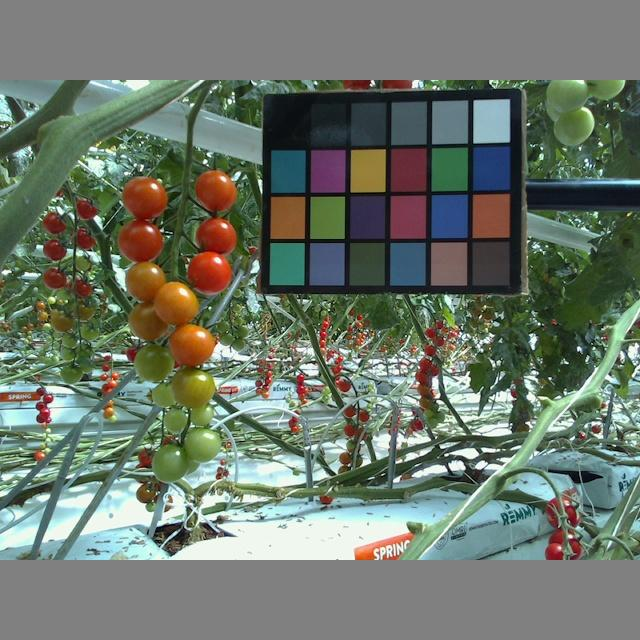green: (552, 105, 596, 147), (545, 81, 594, 116), (133, 343, 174, 383), (153, 444, 191, 484), (183, 426, 221, 464), (163, 409, 190, 434), (152, 381, 177, 406), (190, 401, 211, 426), (58, 364, 83, 385), (79, 323, 99, 339), (58, 331, 78, 347), (73, 254, 91, 270)
pink: (153, 278, 197, 326), (168, 323, 216, 366), (171, 366, 215, 409), (128, 299, 170, 343), (125, 261, 166, 302), (49, 309, 77, 332), (70, 302, 92, 319)
red: (186, 250, 233, 295), (120, 176, 166, 221), (116, 220, 162, 263), (195, 169, 239, 212), (194, 217, 236, 258), (544, 495, 580, 530), (550, 528, 580, 557), (71, 197, 97, 221), (39, 265, 67, 287), (40, 212, 68, 233), (69, 228, 94, 250), (44, 238, 67, 261), (70, 277, 92, 299), (544, 543, 565, 560)
